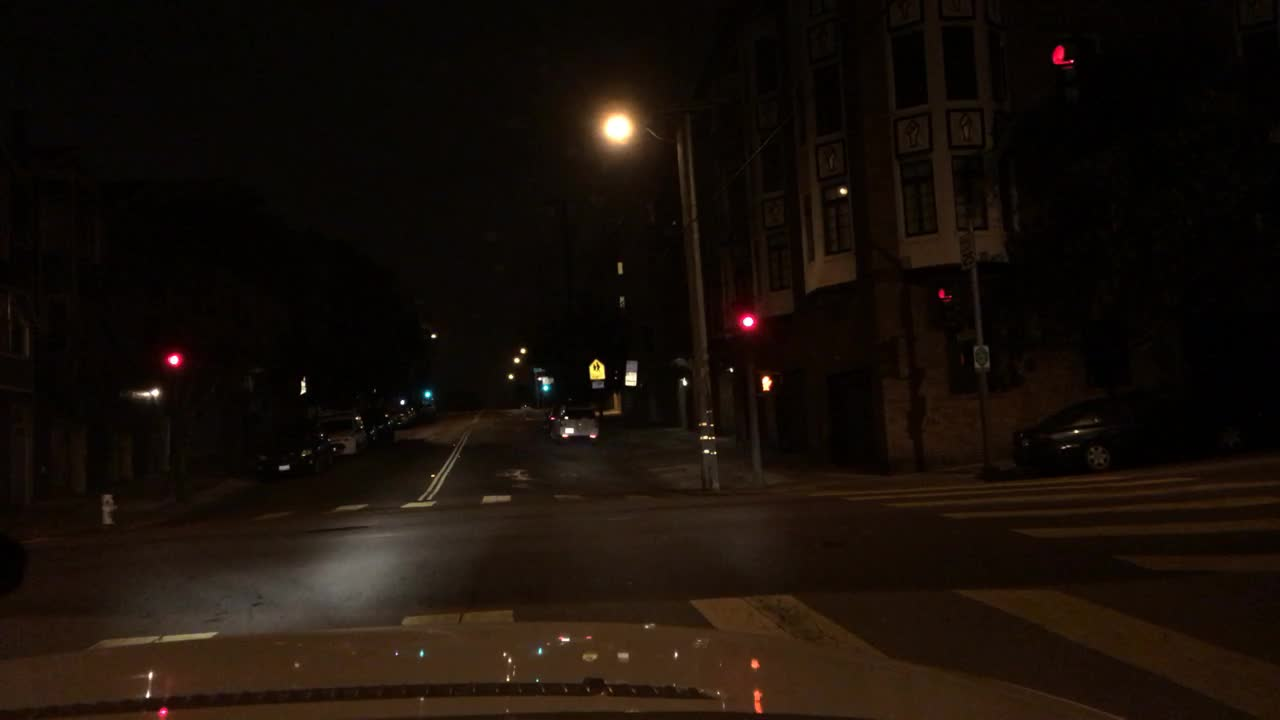car: (1009, 382, 1251, 477), (253, 421, 334, 483), (318, 413, 364, 456), (553, 404, 601, 444), (0, 526, 27, 596), (361, 413, 380, 444), (377, 410, 396, 440), (546, 403, 563, 434), (404, 403, 418, 422), (395, 407, 407, 427), (418, 404, 435, 417)
traffic light: (1049, 40, 1083, 102), (935, 280, 963, 329), (754, 367, 785, 396), (736, 298, 758, 332), (161, 342, 183, 371), (540, 379, 553, 396), (423, 388, 431, 399)
traffic sign: (956, 229, 976, 272), (968, 342, 991, 369), (624, 356, 639, 386), (588, 359, 605, 382), (532, 364, 543, 372)
